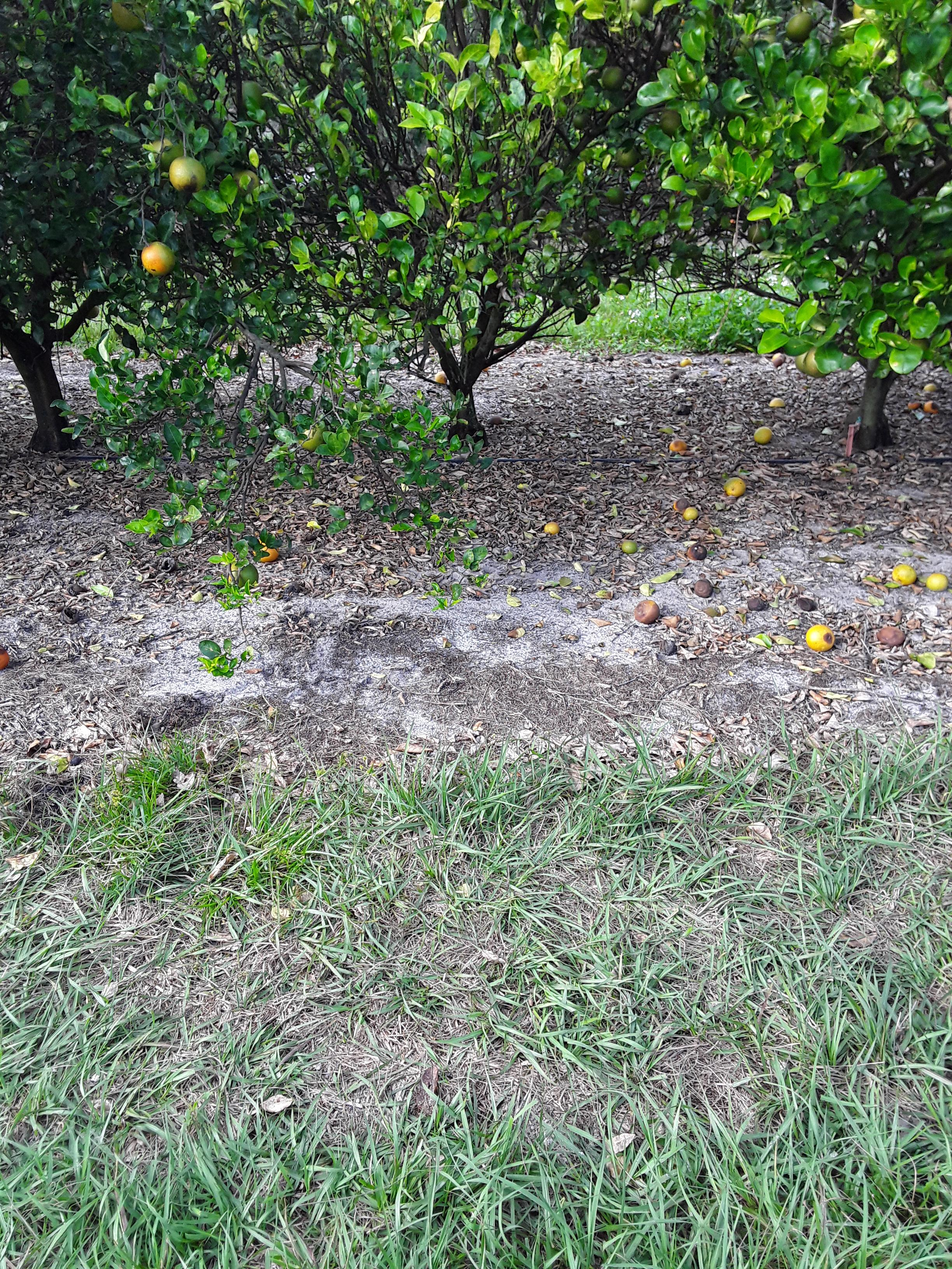fruit_on_ground: (171, 154, 206, 195), (142, 239, 174, 281), (234, 80, 267, 119), (113, 0, 143, 38), (782, 9, 812, 44), (155, 140, 186, 172), (795, 342, 825, 375), (598, 64, 626, 96), (296, 421, 323, 454), (234, 167, 263, 196), (613, 140, 639, 170), (661, 109, 684, 140), (743, 220, 772, 244), (606, 187, 626, 215), (436, 366, 452, 387), (571, 111, 589, 128)
fruit_on_tree: (891, 558, 920, 589), (807, 622, 834, 654), (252, 537, 280, 563), (634, 597, 660, 624), (723, 474, 746, 500), (878, 625, 903, 648), (925, 571, 947, 596), (694, 577, 715, 600), (749, 592, 770, 615), (753, 425, 773, 449), (794, 595, 820, 613), (687, 542, 709, 562), (682, 504, 703, 523), (662, 636, 678, 659), (542, 519, 561, 538), (620, 537, 638, 556), (670, 440, 686, 458), (674, 403, 693, 418), (769, 353, 788, 368), (924, 397, 940, 414), (0, 648, 12, 670), (770, 395, 785, 411), (506, 626, 520, 642), (677, 353, 691, 369), (485, 415, 504, 426), (925, 381, 940, 393), (723, 358, 734, 369), (908, 399, 920, 409), (668, 371, 680, 380), (644, 356, 653, 367), (538, 383, 549, 392), (607, 356, 615, 363), (573, 378, 582, 384), (693, 381, 701, 387)
